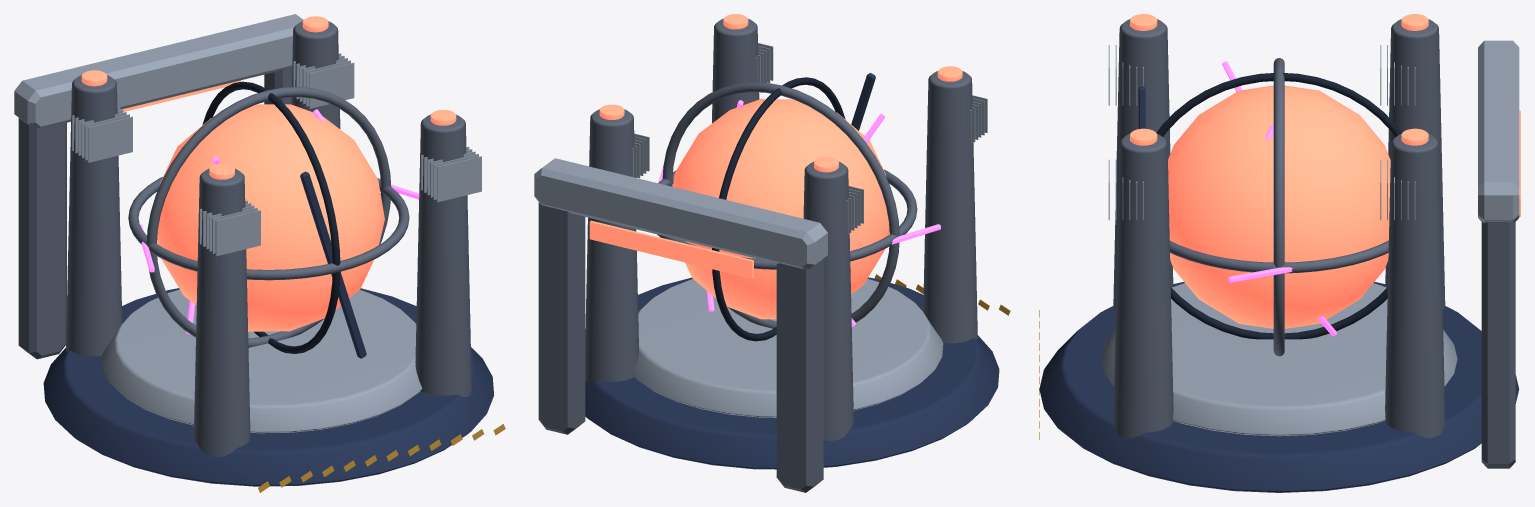
File: shared_core_hit.glb
3 views of the same model, side by side, from view 1: azimuth 30°, elevation 25°; view 2: azimuth 150°, elevation 25°; view 3: azimuth 270°, elevation 25° (orthographic). The views are drawn at different scales.
Visible parts, largest first — view 1: core_sphere, core_plinth, core_plinth_step, core_gate_lintel, core_stack1, core_stack0, core_stack2, core_gate_post-1, core_cage_ring_b, core_cage_ring_a, core_cage_ring_c, core_stack_fins1 (+7 smaller); view 2: core_plinth_step, core_plinth, core_sphere, core_gate_lintel, core_stack1, core_gate_post-1, core_gate_post1, core_stack3, core_stack2, core_cage_ring_b, core_stack0, core_gate_sign (+7 smaller); view 3: core_sphere, core_plinth, core_plinth_step, core_stack0, core_stack3, core_gate_post1, core_gate_lintel, core_stack2, core_stack1, core_cage_ring_c, core_cage_ring_b, core_cage_ring_a (+1 smaller).
Boxes of the visible parts, x1,y1,x2,y2 form: core_sphere: [157, 104, 384, 331]; core_plinth: [43, 288, 494, 486]; core_plinth_step: [101, 289, 422, 433]; core_gate_lintel: [14, 14, 303, 128]; core_stack1: [193, 168, 250, 456]; core_stack0: [415, 114, 471, 396]; core_stack2: [66, 75, 122, 356]; core_gate_post-1: [18, 118, 66, 359]; core_cage_ring_b: [146, 86, 391, 347]; core_cage_ring_a: [128, 177, 409, 280]; core_cage_ring_c: [202, 81, 340, 353]; core_stack_fins1: [199, 200, 260, 256]; core_plinth_step: [632, 278, 943, 417]; core_plinth: [585, 277, 999, 469]; core_sphere: [672, 99, 889, 319]; core_gate_lintel: [534, 158, 827, 269]; core_stack1: [923, 71, 977, 343]; core_gate_post-1: [776, 259, 823, 492]; core_gate_post1: [538, 202, 585, 434]; core_stack3: [585, 109, 638, 382]; core_stack2: [803, 161, 853, 440]; core_cage_ring_b: [662, 82, 899, 328]; core_stack0: [712, 18, 759, 123]; core_gate_sign: [589, 220, 753, 278]; core_sphere: [1168, 85, 1390, 328]; core_plinth: [1039, 281, 1519, 492]; core_plinth_step: [1101, 283, 1457, 436]; core_stack0: [1113, 134, 1173, 437]; core_stack3: [1385, 134, 1445, 437]; core_gate_post1: [1481, 221, 1515, 468]; core_gate_lintel: [1478, 40, 1519, 223]; core_stack2: [1385, 19, 1445, 309]; core_stack1: [1113, 19, 1173, 309]; core_cage_ring_c: [1156, 73, 1401, 339]; core_cage_ring_b: [1273, 58, 1284, 356]; core_cage_ring_a: [1169, 240, 1388, 273].
Size of the model in its own units: 7 by 5.27 by 7.03.
